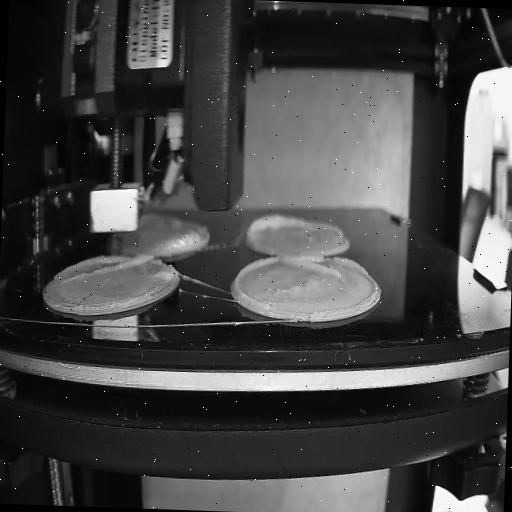over_extrusion: (54, 252, 153, 289), (231, 254, 277, 310), (280, 255, 370, 280), (244, 212, 304, 245), (322, 220, 346, 238)
